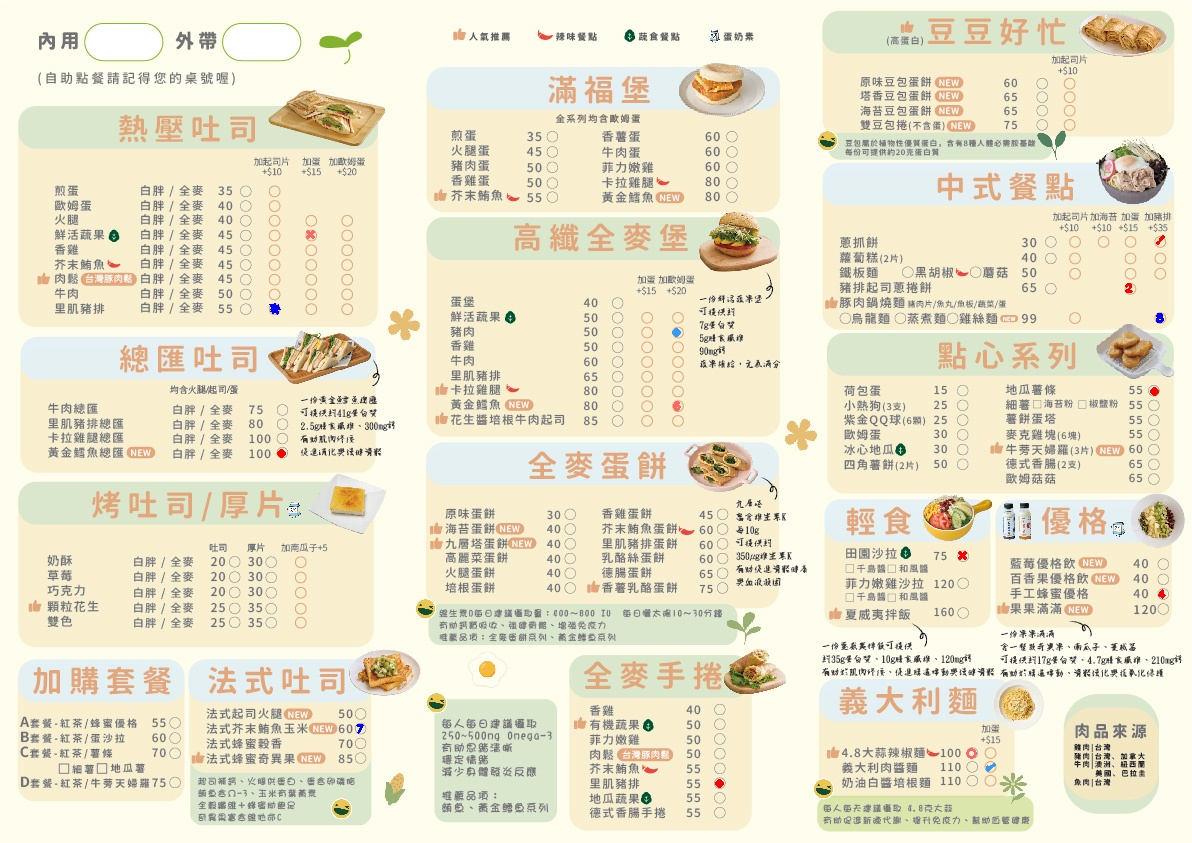marked_circle: (277, 449, 287, 460), (1148, 385, 1158, 396), (714, 778, 724, 789), (672, 328, 682, 339), (268, 303, 278, 314)
marked_hollow: (966, 748, 976, 759)
marked_number_2: (1124, 282, 1134, 293)
marked_number_4: (1157, 588, 1167, 599)
marked_number_6: (672, 400, 682, 411)
marked_number_7: (355, 723, 365, 734)
marked_number_8: (1155, 312, 1165, 323)
marked_tick: (1153, 236, 1163, 247), (984, 761, 994, 772)
marked_x: (305, 229, 315, 240), (957, 550, 967, 561)
